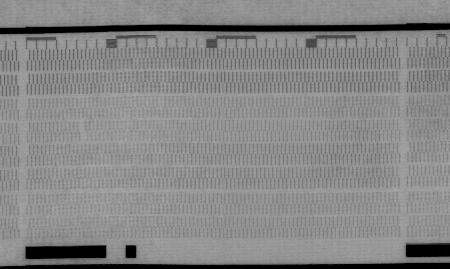Broken hole: (76, 120, 89, 142)
